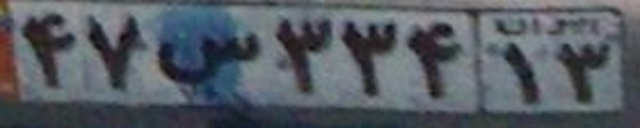1: (501, 41, 542, 103)
3: (272, 17, 334, 93), (342, 19, 395, 96), (553, 41, 609, 104)
4: (405, 22, 463, 98), (21, 13, 75, 87)
7: (85, 10, 145, 91)
sin: (155, 31, 262, 83)
